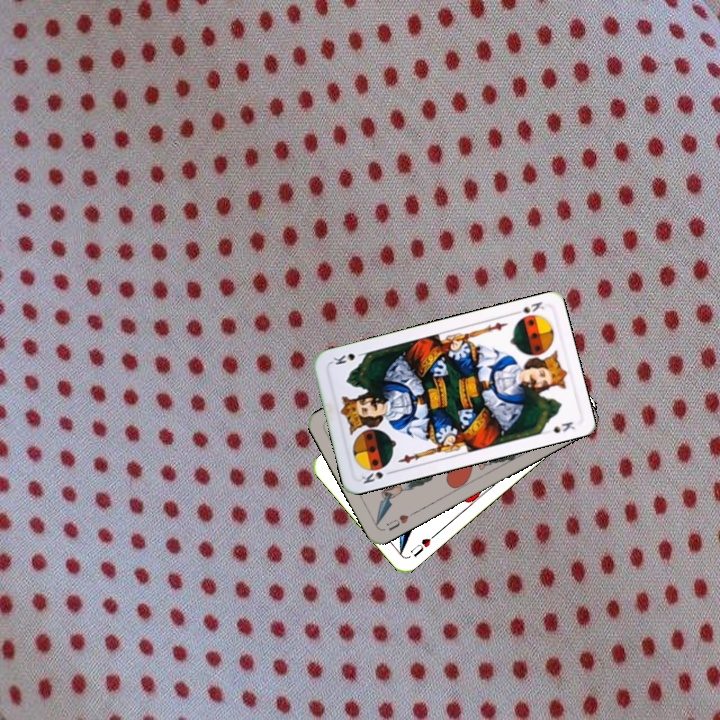HU: (406, 530, 439, 560), (382, 508, 418, 534)
SK: (509, 297, 547, 318), (357, 467, 396, 486)
